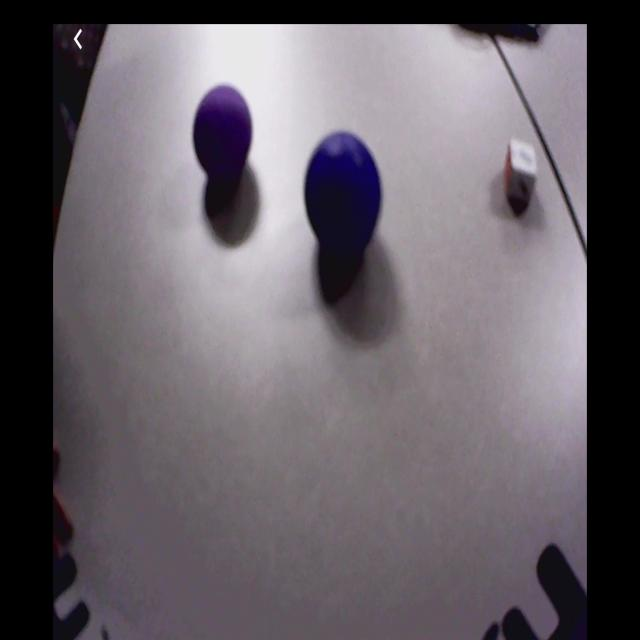ball: (304, 132, 382, 255), (193, 85, 253, 182)
